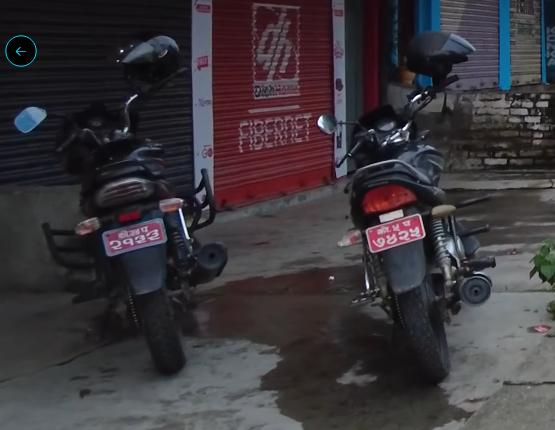bike: (4, 25, 229, 385), (312, 51, 503, 385)
